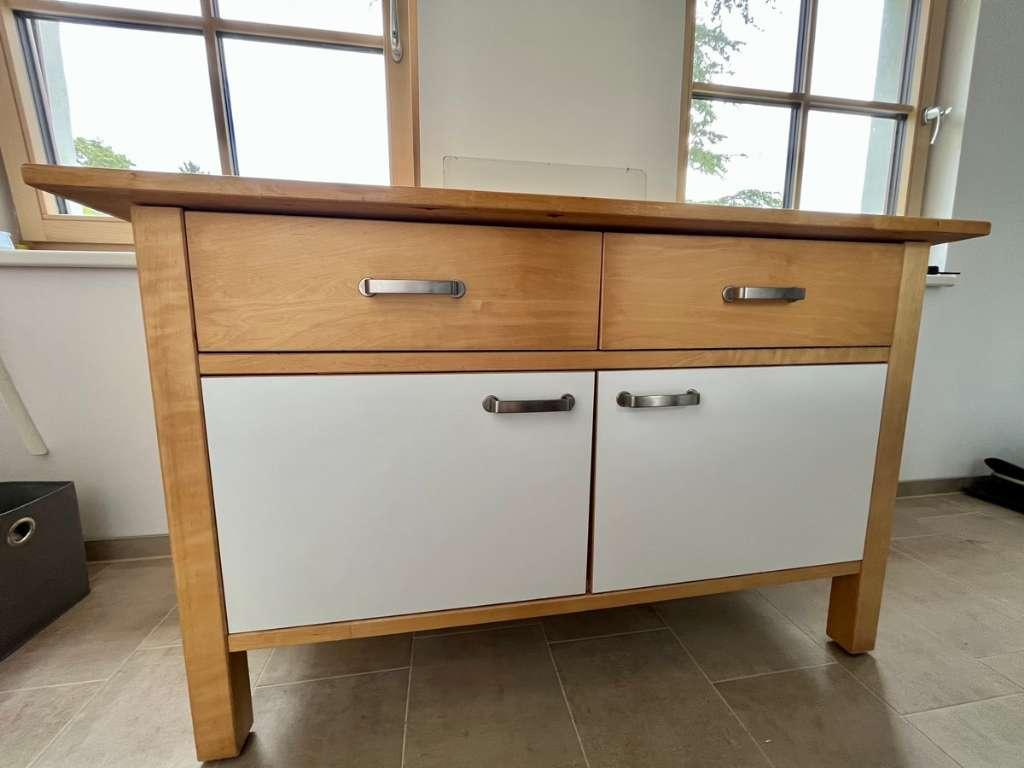cabinet_door: (216, 379, 595, 618), (593, 376, 875, 584), (198, 230, 604, 359), (598, 244, 892, 356)
handle: (355, 268, 470, 307), (479, 387, 581, 422), (615, 380, 710, 415), (720, 278, 809, 311), (381, 0, 410, 61), (918, 104, 953, 150)
